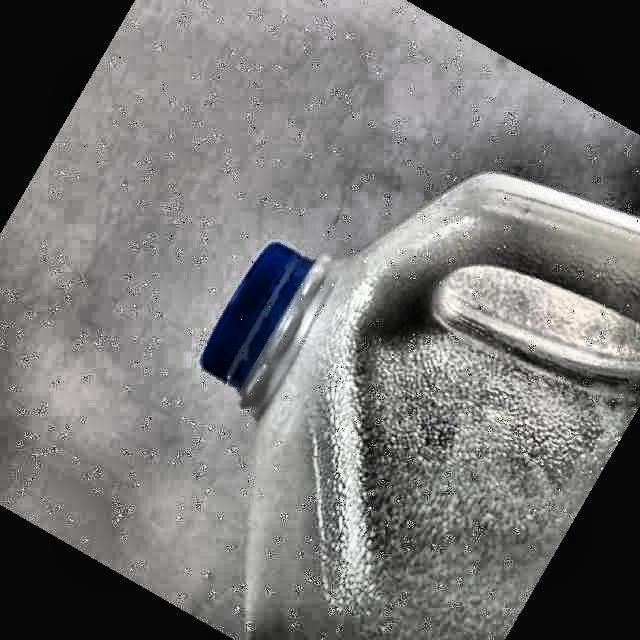plastic: (201, 174, 640, 640)
